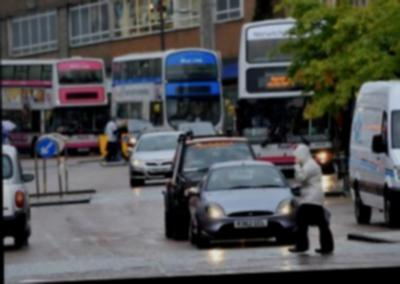License_Plate: (230, 215, 269, 229)
